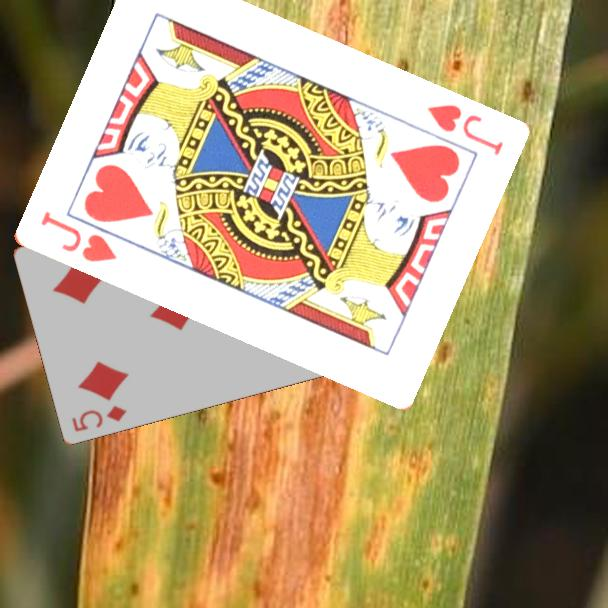d05: (69, 402, 130, 434)
h11: (36, 208, 120, 266), (423, 101, 506, 159)
